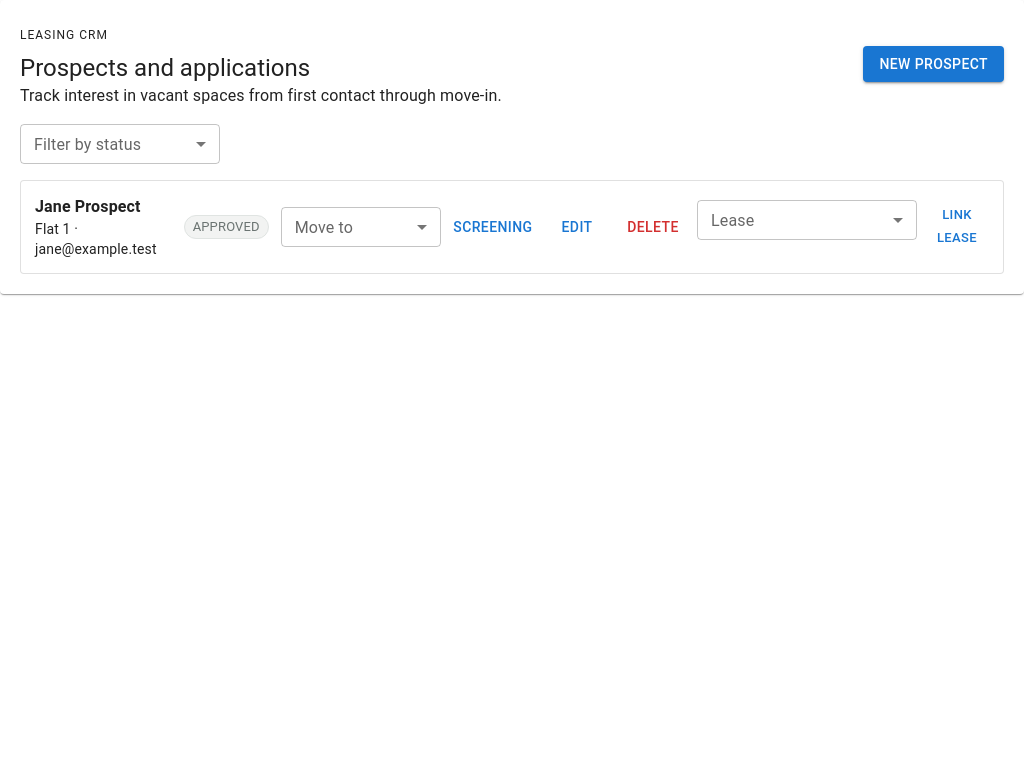
it: blocks a new prospect without a space or name and flags a bad email
Click the button "New prospect" at x=934, y=64, box x1=863 y1=46 x2=1004 y2=82
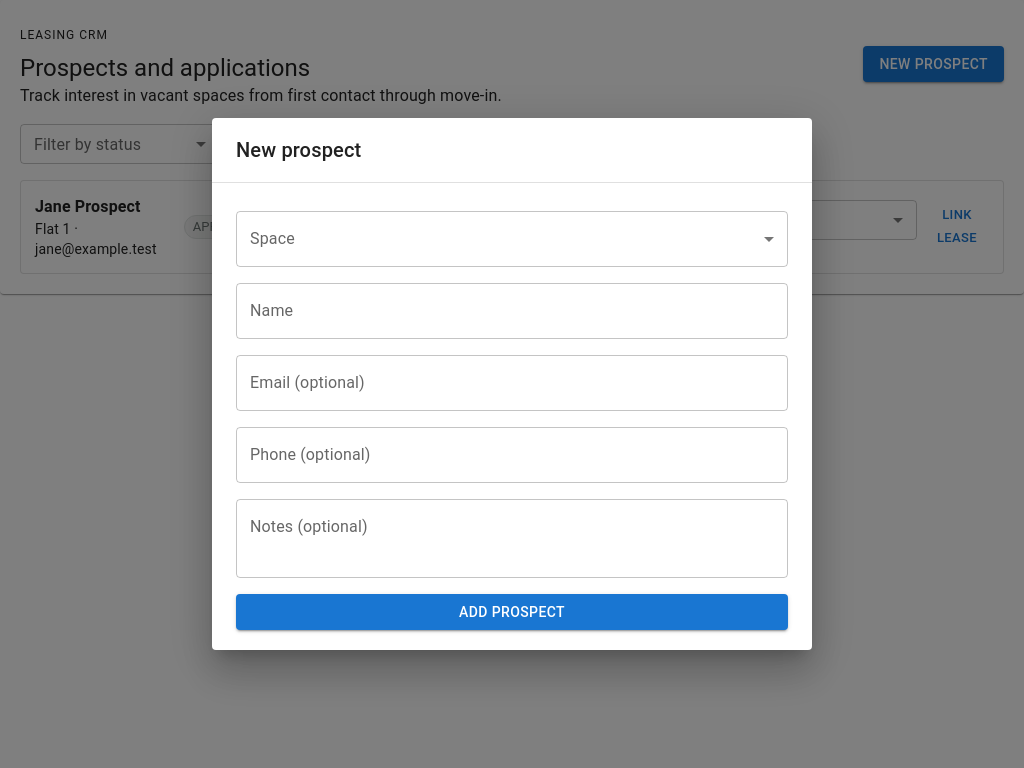
Type "nope" into the field labelled "Email (optional)" at x=512, y=383, box x1=236 y1=355 x2=788 y2=411
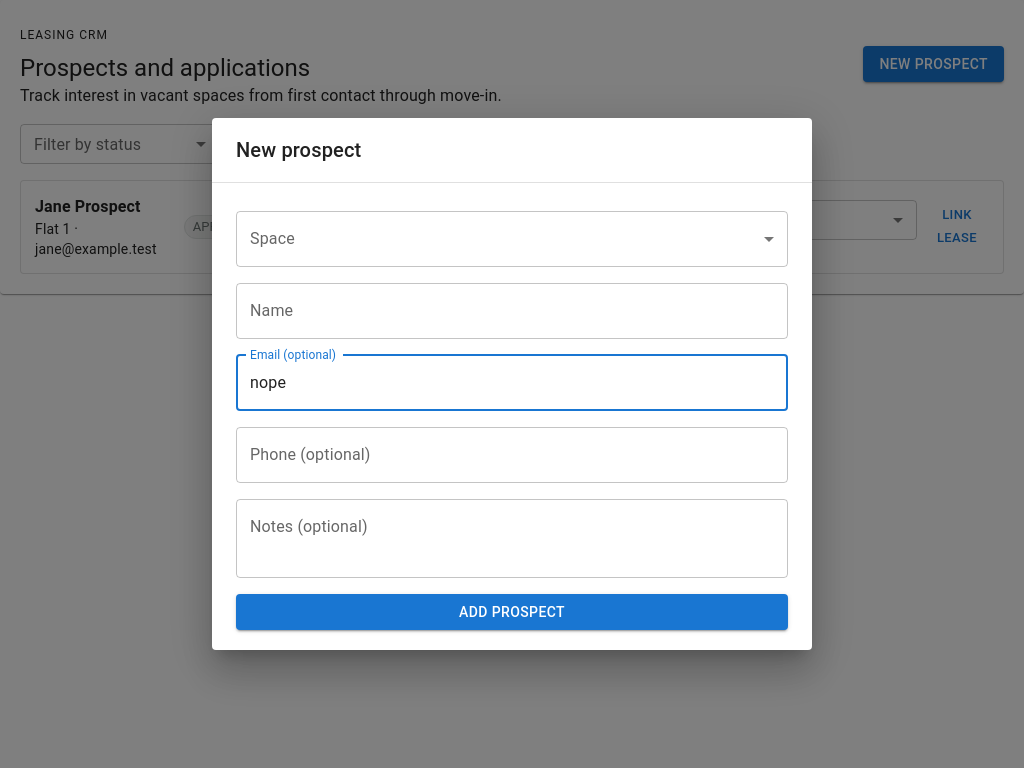
Click the button "Add prospect" at x=512, y=612, box x1=236 y1=594 x2=788 y2=630
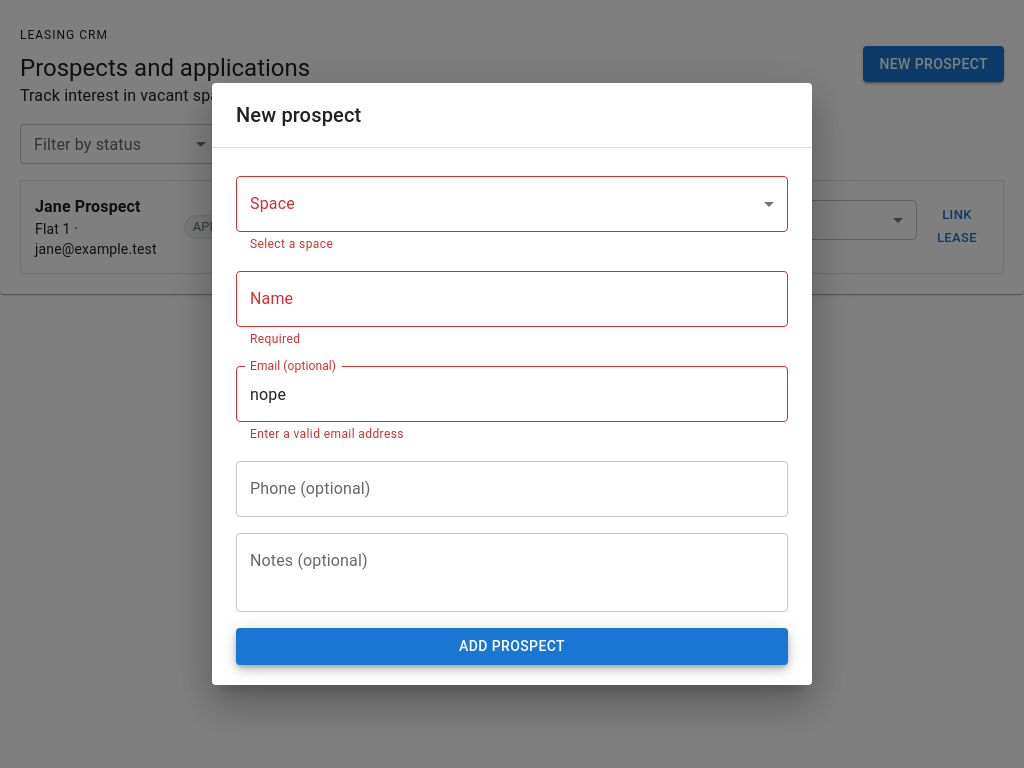
Result: the text "Select a space" is shown at x1=250 y1=237 x2=333 y2=251
Result: the text "Required" is shown at x1=250 y1=332 x2=300 y2=346
Result: the text "Enter a valid email address" is shown at x1=250 y1=427 x2=404 y2=441
